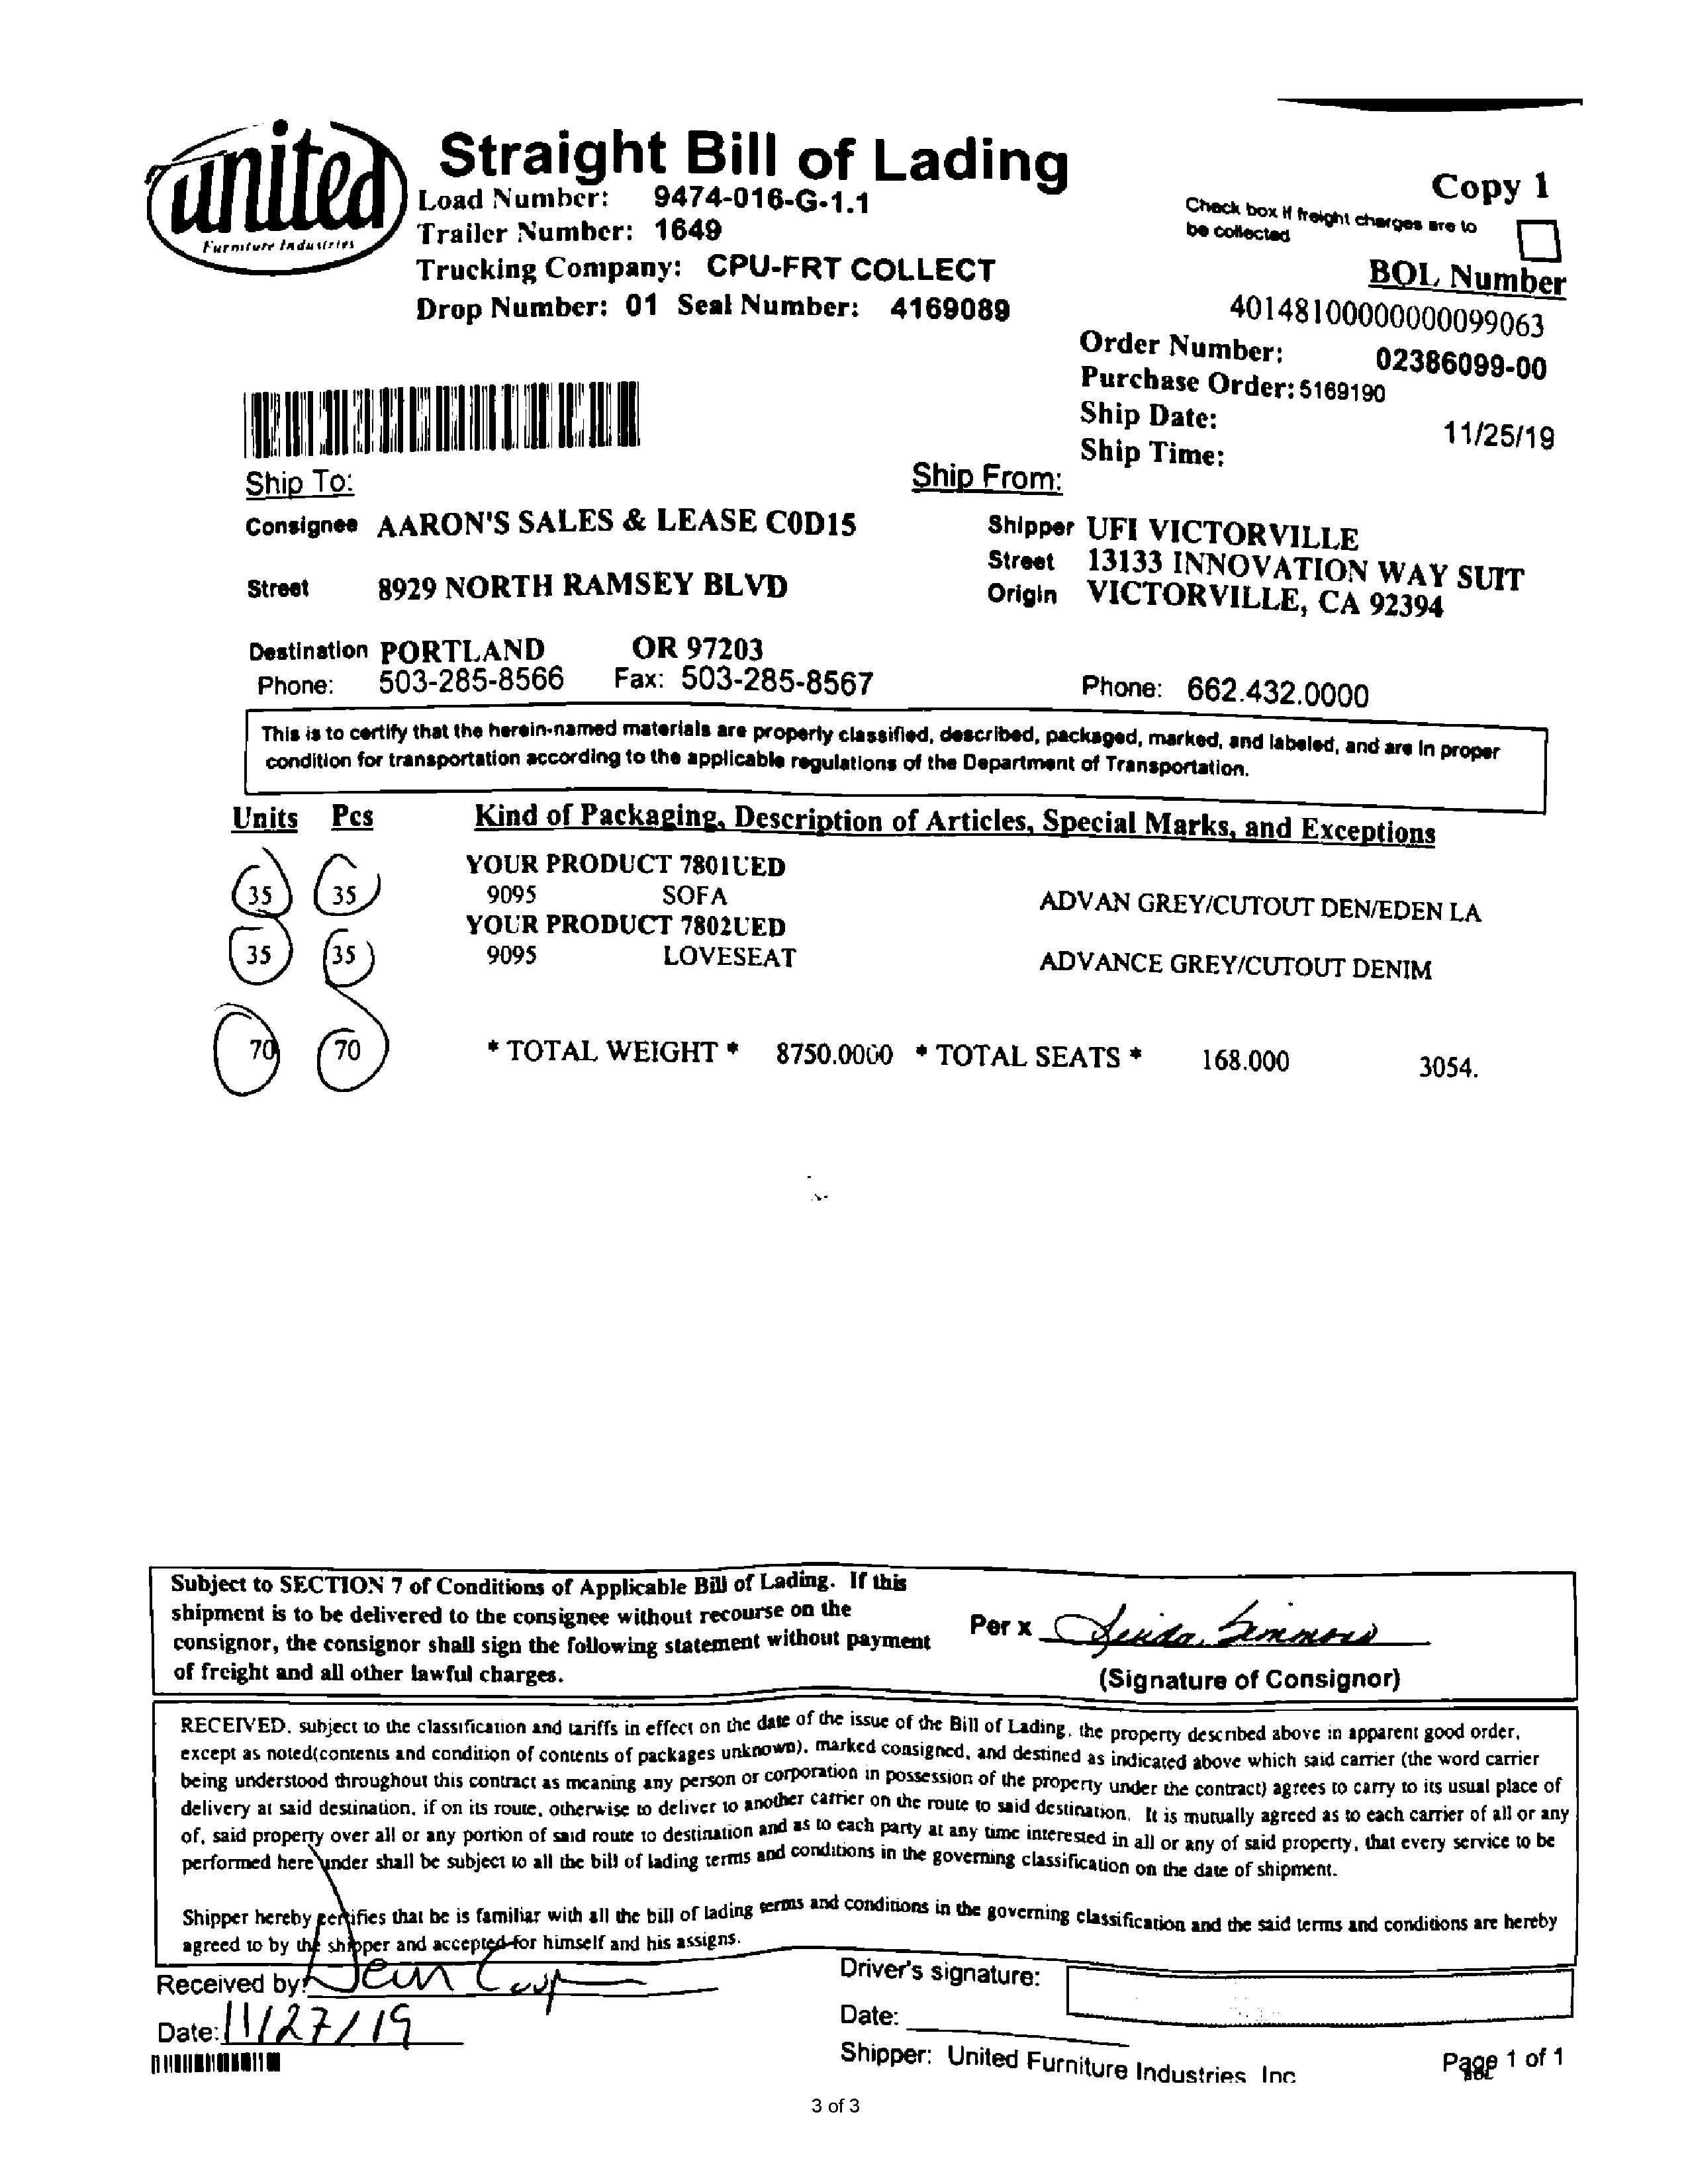B_Paragraph: (181, 1704, 1573, 1959), (245, 502, 867, 661), (160, 1564, 942, 1681), (257, 721, 1527, 792), (411, 190, 1023, 337), (977, 505, 1539, 643), (1076, 324, 1566, 477), (837, 1952, 1316, 2099), (254, 668, 881, 706), (1170, 191, 1484, 250), (131, 1966, 309, 2042), (1069, 670, 1383, 711), (1427, 2028, 1585, 2081), (1085, 1668, 1410, 1693), (1418, 156, 1555, 202), (961, 1608, 1059, 1650)
B_SubTitle: (1367, 255, 1578, 296), (906, 459, 1064, 498), (245, 459, 358, 495)
B_Table: (227, 799, 1486, 1085)
B_Title: (429, 113, 1087, 191), (152, 128, 402, 236)
